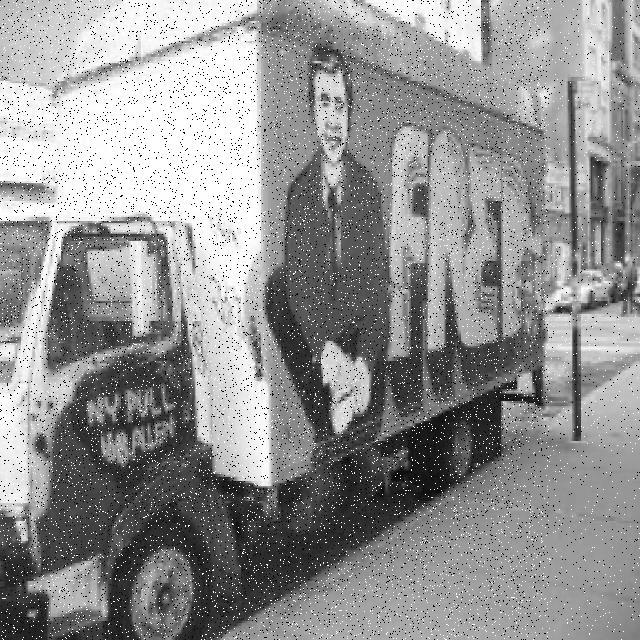Box Truck: (0, 0, 549, 640)
